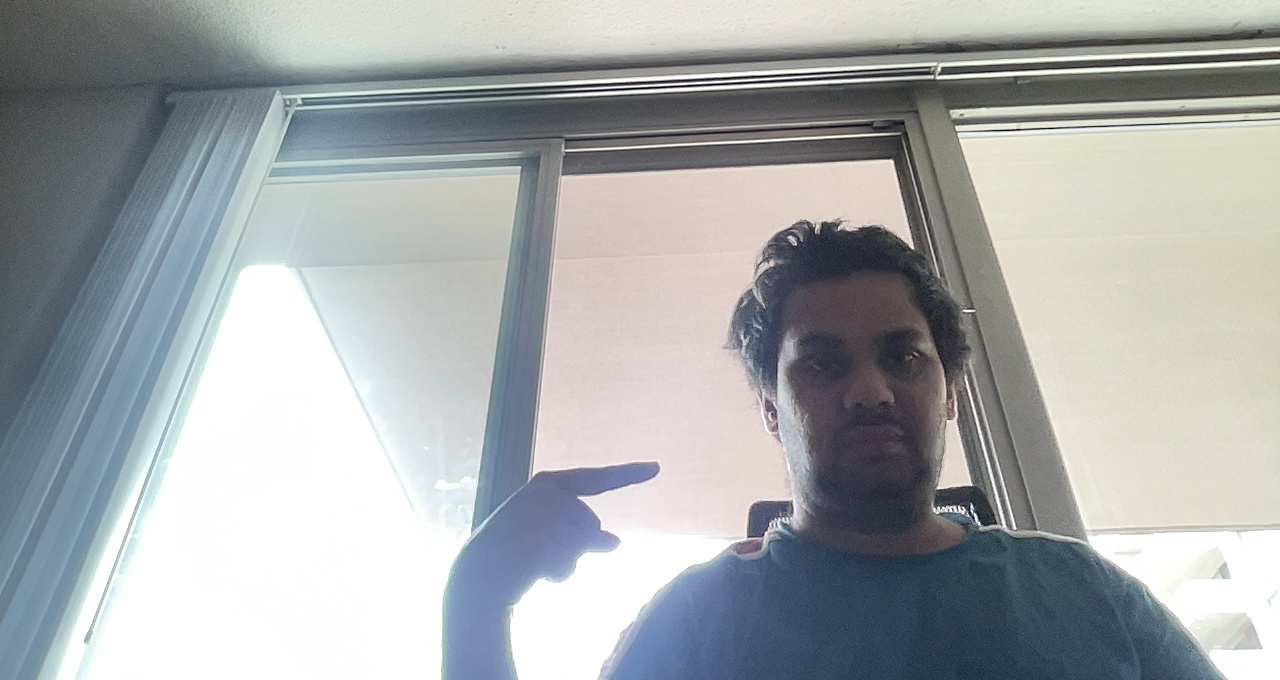fingerleft: (446, 459, 668, 583)
